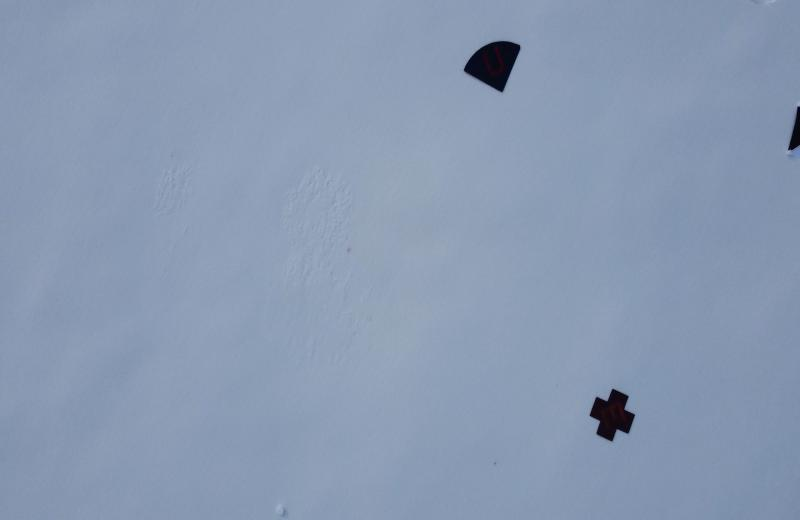Cross: (591, 387, 636, 442)
Quarter Circle: (465, 37, 522, 95)
